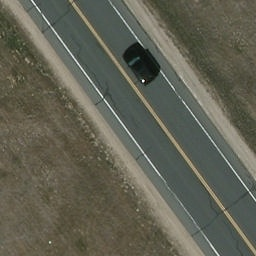car: (121, 46, 160, 85)
